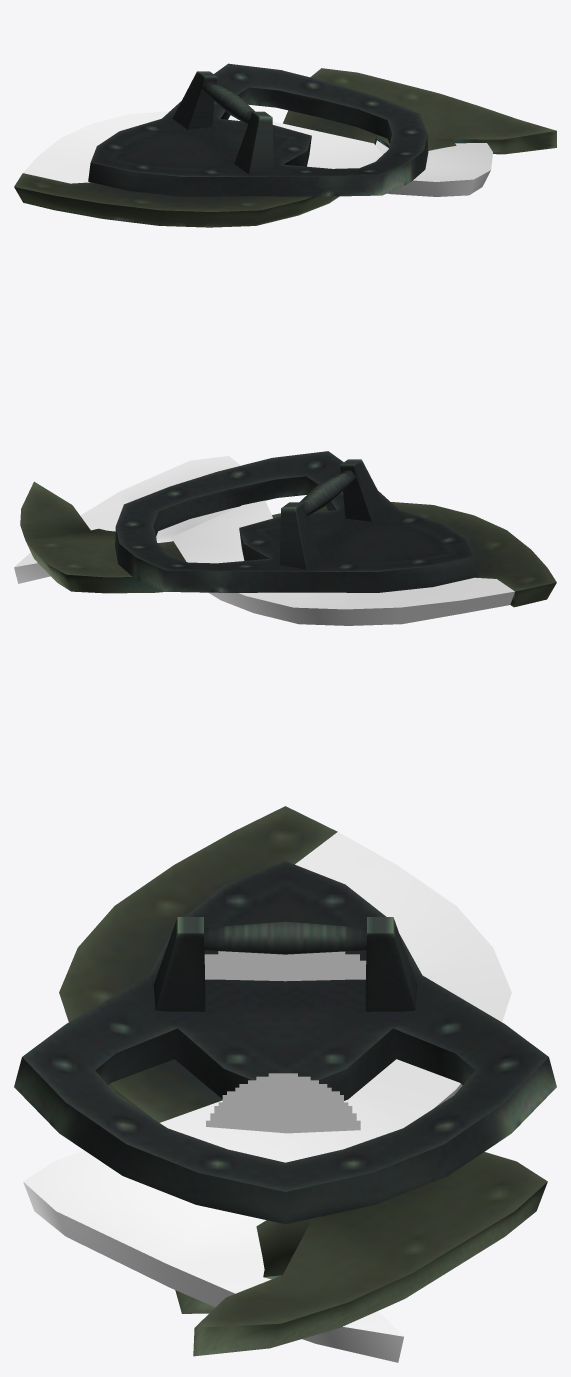
3 renders of one model, top to bottom at view 1: azimuth 30°, elevation 25°; view 2: azimuth 150°, elevation 25°; view 3: azimuth 270°, elevation 25°, orthographic. The views are drawn at different scales.
Visible parts, largest first — view 1: star.part_model-MeshNodes["mesh_shield"], star.part_model-MeshNodes["shield_stars"]; view 2: star.part_model-MeshNodes["mesh_shield"], star.part_model-MeshNodes["shield_stars"]; view 3: star.part_model-MeshNodes["mesh_shield"], star.part_model-MeshNodes["shield_stars"], mesh.model_billboard-MeshNodes["plane_1unit"] (×2).
Part boxes in pixels (x1=…): star.part_model-MeshNodes["mesh_shield"]: x1=14, y1=63, x2=556, y2=227; star.part_model-MeshNodes["shield_stars"]: x1=23, y1=111, x2=492, y2=196; star.part_model-MeshNodes["mesh_shield"]: x1=20, y1=451, x2=556, y2=607; star.part_model-MeshNodes["shield_stars"]: x1=14, y1=456, x2=514, y2=625; star.part_model-MeshNodes["mesh_shield"]: x1=14, y1=806, x2=556, y2=1356; star.part_model-MeshNodes["shield_stars"]: x1=23, y1=832, x2=511, y2=1362; mesh.model_billboard-MeshNodes["plane_1unit"] (×2): x1=204, y1=951, x2=366, y2=1133.
Bounding box in the file's own units: 1.21 × 0.5596 × 0.6386.
3 materials, 2 textured.
